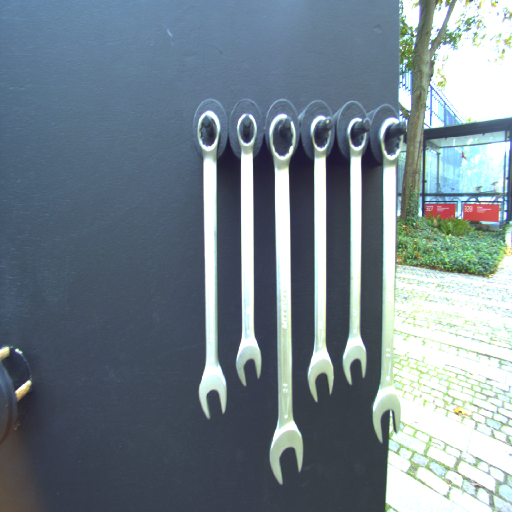bottom: (266, 421, 308, 486), (195, 363, 229, 419), (373, 380, 403, 443), (303, 349, 335, 401), (339, 336, 370, 388), (233, 338, 265, 387)
top: (267, 112, 299, 170), (377, 116, 404, 168), (195, 106, 223, 156), (308, 113, 334, 159), (234, 111, 260, 155), (347, 115, 367, 162)
